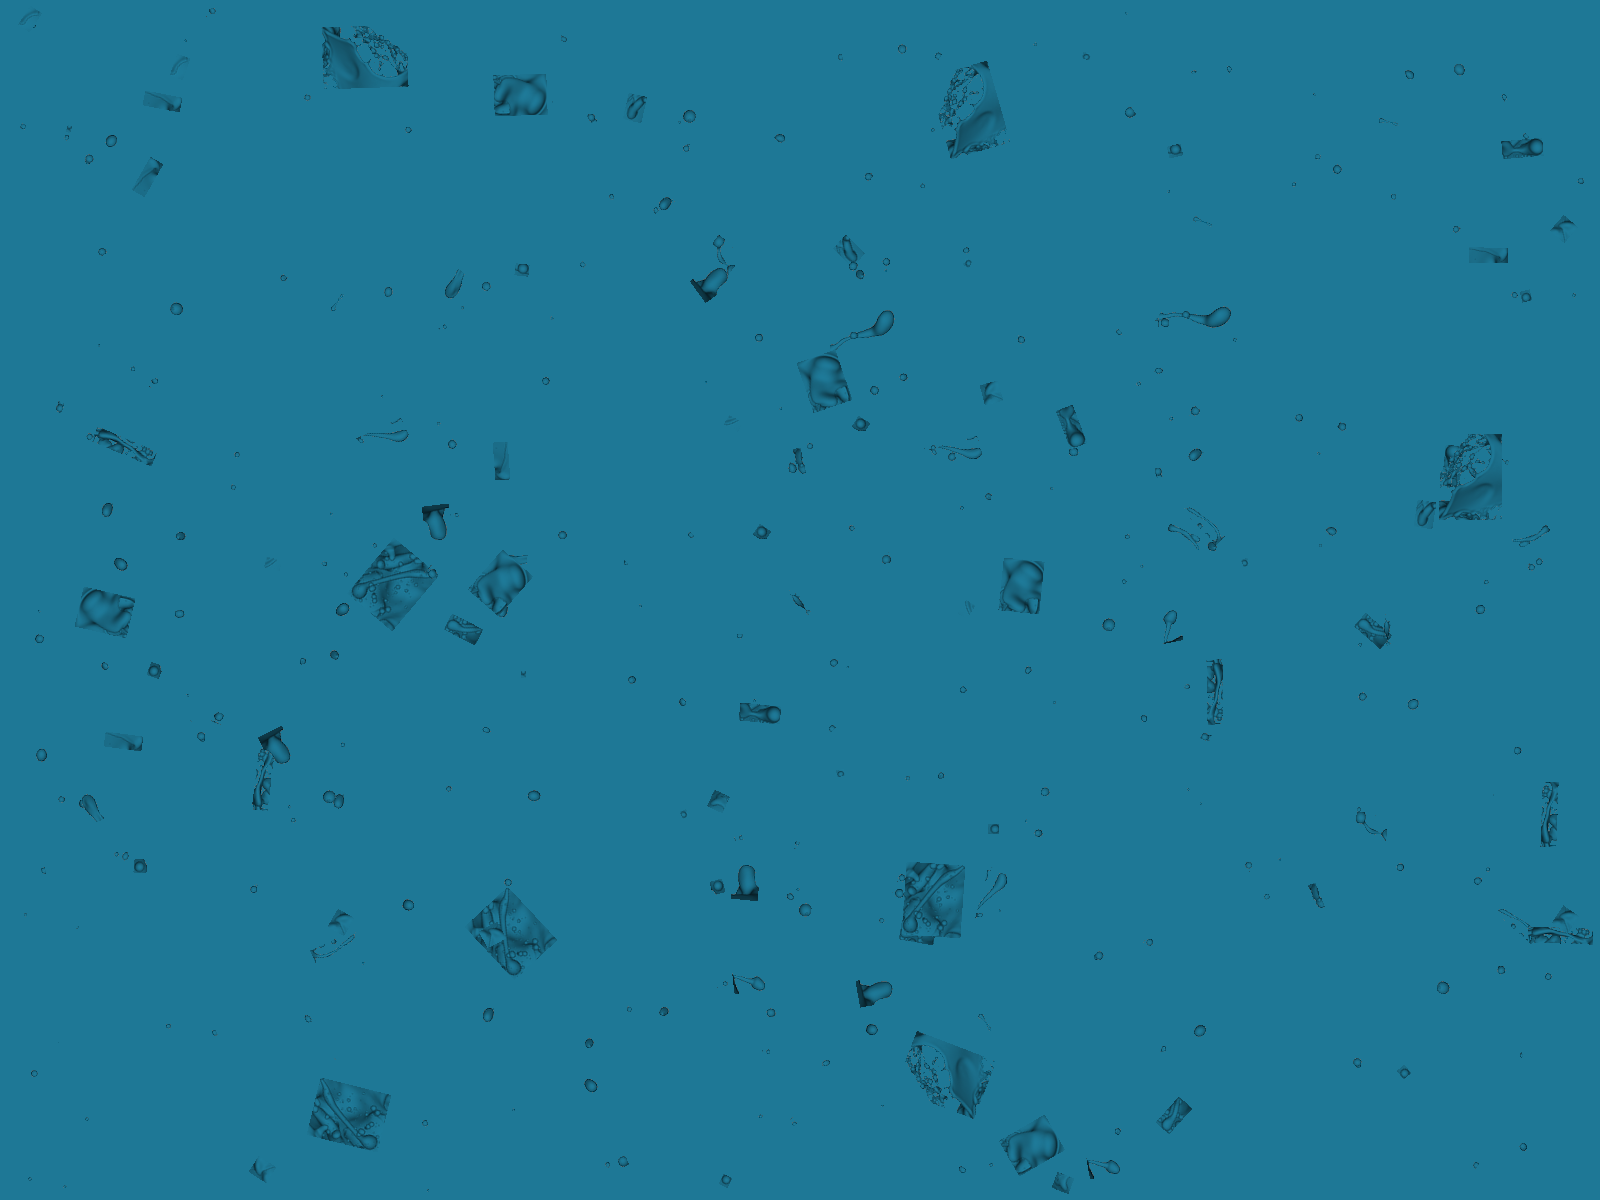Attached ligament: (464, 886, 558, 981), (346, 537, 440, 632), (306, 1076, 392, 1153), (901, 861, 966, 939), (91, 426, 157, 466), (251, 744, 276, 812), (1054, 405, 1089, 450), (1353, 613, 1393, 650), (1155, 1095, 1193, 1134), (1150, 606, 1184, 645), (443, 613, 484, 645), (1085, 1147, 1124, 1180), (1540, 782, 1558, 848), (1527, 926, 1594, 945), (1206, 659, 1225, 725), (831, 234, 866, 268), (731, 964, 769, 995), (1441, 444, 1464, 488), (738, 702, 782, 725), (1500, 137, 1545, 160), (898, 921, 937, 945), (622, 92, 648, 124), (1414, 499, 1437, 529), (1306, 882, 1327, 911), (792, 447, 808, 476)
Detached ligament: (1153, 277, 1238, 361), (828, 303, 900, 367), (345, 417, 411, 465), (918, 435, 984, 475), (973, 868, 1010, 935), (1180, 499, 1227, 546), (1493, 900, 1541, 945), (700, 234, 745, 277), (309, 929, 362, 964), (1508, 519, 1551, 553), (436, 268, 472, 308), (1164, 523, 1208, 553), (74, 787, 105, 826), (1354, 811, 1390, 843), (1458, 460, 1490, 489), (782, 587, 815, 616), (1478, 442, 1512, 466), (491, 552, 528, 574), (1377, 613, 1396, 647), (973, 1010, 998, 1034), (328, 291, 345, 314), (1377, 113, 1398, 129), (1192, 214, 1213, 228)
bag: (894, 1030, 997, 1121), (927, 61, 1010, 160), (321, 24, 409, 89), (1439, 434, 1502, 521), (467, 550, 534, 616), (998, 1114, 1066, 1177), (796, 349, 853, 413), (74, 586, 136, 639), (998, 557, 1044, 615), (493, 73, 548, 117), (689, 258, 737, 304), (257, 725, 300, 771), (855, 974, 898, 1008), (729, 860, 762, 903), (421, 503, 454, 545)
drop: (110, 552, 134, 579), (580, 1074, 602, 1099), (1060, 442, 1083, 465), (331, 599, 357, 620), (317, 784, 340, 807), (1432, 977, 1456, 998), (399, 892, 420, 918), (863, 1018, 883, 1042), (170, 526, 191, 547), (362, 576, 383, 597), (655, 193, 677, 214), (168, 297, 189, 319), (1191, 1018, 1211, 1041), (77, 149, 100, 169), (1099, 613, 1119, 635), (850, 263, 871, 285), (31, 745, 52, 766), (524, 785, 546, 805), (1186, 444, 1206, 465), (679, 105, 699, 126), (850, 415, 871, 435), (752, 523, 772, 543), (654, 1002, 674, 1022), (325, 645, 345, 666), (437, 779, 457, 799), (1036, 782, 1054, 803), (1347, 1053, 1366, 1074), (876, 250, 894, 270), (842, 521, 862, 539), (1117, 102, 1136, 122), (1203, 537, 1222, 556), (1289, 406, 1308, 425), (443, 434, 462, 453), (1328, 159, 1347, 178), (1471, 603, 1489, 623), (191, 727, 209, 747), (866, 379, 883, 400), (1490, 961, 1508, 979), (146, 661, 164, 679), (823, 653, 842, 671), (858, 166, 876, 185), (1466, 871, 1485, 889), (1401, 697, 1420, 715), (612, 1151, 630, 1170), (771, 129, 789, 147), (1449, 58, 1466, 76), (581, 1035, 598, 1053), (716, 977, 733, 995), (923, 440, 941, 458), (494, 601, 511, 619), (784, 459, 801, 476), (1323, 522, 1340, 539), (1506, 741, 1524, 758), (534, 373, 553, 389), (1089, 947, 1107, 963), (480, 1005, 496, 1024), (100, 500, 116, 519), (1167, 142, 1184, 159), (709, 879, 726, 896), (92, 242, 110, 258), (1186, 405, 1203, 421), (1120, 529, 1136, 547), (103, 131, 120, 149), (423, 563, 440, 581), (477, 279, 496, 294), (331, 792, 346, 811), (416, 1118, 432, 1134), (799, 437, 815, 454), (1506, 290, 1522, 306), (1141, 934, 1158, 950), (160, 1020, 176, 1036), (1396, 1064, 1412, 1080), (927, 47, 944, 63), (845, 258, 863, 274), (763, 1005, 779, 1022), (797, 900, 813, 918), (1241, 857, 1256, 874), (1354, 689, 1369, 706), (624, 672, 639, 688), (1516, 1138, 1531, 1155), (955, 683, 971, 698), (1532, 555, 1548, 570), (913, 179, 929, 195), (23, 1170, 38, 1186), (210, 710, 226, 726), (821, 718, 837, 735), (894, 42, 912, 55), (31, 633, 47, 648), (74, 798, 89, 813), (718, 1174, 733, 1189), (123, 362, 139, 377), (55, 1181, 71, 1196), (500, 876, 515, 891), (1524, 560, 1540, 575), (1333, 421, 1349, 435), (514, 263, 530, 277), (173, 605, 186, 621), (1390, 860, 1406, 874), (228, 449, 244, 463), (1115, 574, 1131, 587), (134, 858, 147, 874), (380, 285, 396, 299), (301, 93, 315, 108), (894, 371, 910, 384), (1542, 969, 1556, 984), (407, 575, 421, 590), (603, 190, 619, 204), (286, 811, 300, 826), (334, 737, 349, 751), (542, 313, 557, 326), (1310, 447, 1324, 463), (79, 1111, 94, 1124), (401, 124, 414, 137), (891, 887, 905, 901), (1031, 826, 1044, 839), (675, 697, 689, 711), (1020, 664, 1034, 678), (784, 891, 797, 905), (1466, 1158, 1480, 1172), (1180, 679, 1194, 693), (600, 1158, 614, 1172), (1519, 289, 1533, 303), (874, 915, 888, 929), (819, 1055, 833, 1069), (436, 321, 450, 335), (1449, 222, 1463, 236), (1497, 91, 1511, 105), (648, 204, 661, 218), (785, 1116, 799, 1129), (576, 260, 590, 274), (894, 871, 910, 884), (98, 661, 111, 676), (1479, 576, 1492, 591), (1151, 363, 1167, 376), (1557, 916, 1570, 932), (1403, 67, 1416, 82), (28, 1066, 40, 1080), (670, 116, 684, 129), (226, 483, 239, 495), (622, 1005, 636, 1017), (300, 1013, 314, 1026), (1222, 63, 1235, 77), (733, 833, 746, 847), (147, 377, 161, 389), (586, 111, 598, 125), (53, 400, 66, 413), (1199, 730, 1213, 742), (1157, 316, 1170, 329), (16, 122, 30, 135), (944, 451, 956, 464), (276, 272, 289, 285), (751, 332, 763, 344), (84, 431, 97, 444), (753, 1111, 766, 1123), (839, 659, 852, 672), (748, 695, 761, 707), (1259, 890, 1271, 903), (1574, 171, 1585, 185), (317, 557, 331, 568), (986, 823, 1000, 834), (246, 884, 260, 895), (1015, 334, 1027, 348), (340, 568, 351, 581), (1111, 1124, 1123, 1137), (879, 552, 892, 563), (37, 866, 48, 879), (60, 131, 72, 144), (926, 125, 939, 136), (874, 1100, 886, 1113), (421, 1187, 433, 1199), (986, 1158, 998, 1171), (1569, 290, 1580, 303), (179, 34, 191, 45), (955, 1165, 968, 1176), (449, 509, 460, 522), (679, 808, 690, 821), (1136, 560, 1148, 572), (936, 769, 947, 780), (297, 654, 309, 666), (556, 529, 567, 541), (961, 246, 973, 257), (91, 339, 102, 350), (375, 393, 387, 405), (1230, 334, 1241, 345), (634, 601, 645, 613), (792, 884, 804, 895), (791, 839, 803, 851), (680, 142, 692, 154), (1240, 557, 1251, 568), (20, 909, 31, 920), (1046, 483, 1057, 494), (1313, 153, 1324, 164), (1519, 131, 1531, 142), (1112, 326, 1124, 338), (110, 850, 122, 860), (1139, 713, 1149, 726), (1049, 696, 1060, 708), (1157, 1044, 1169, 1054), (369, 541, 380, 551), (1354, 639, 1364, 650), (983, 1066, 994, 1076), (1163, 185, 1174, 195), (285, 802, 295, 813), (957, 503, 968, 514), (1133, 379, 1144, 389), (481, 724, 493, 734), (506, 1103, 517, 1114), (31, 608, 43, 618), (29, 20, 39, 32), (1167, 412, 1177, 424), (761, 1046, 771, 1058), (1081, 50, 1092, 61), (963, 257, 973, 268), (1154, 466, 1164, 478), (685, 529, 695, 541), (209, 1027, 219, 1039), (1315, 542, 1324, 555), (559, 32, 568, 44), (991, 906, 1002, 916), (879, 266, 889, 276), (1274, 855, 1284, 865), (700, 377, 711, 387), (357, 961, 367, 971), (774, 403, 784, 413), (328, 511, 338, 521), (52, 1036, 62, 1046), (181, 692, 191, 702), (457, 303, 467, 313), (433, 418, 443, 429), (1189, 66, 1199, 76), (619, 558, 629, 568), (1387, 193, 1397, 203), (120, 850, 129, 861), (205, 8, 217, 16), (1483, 863, 1492, 874), (1289, 179, 1298, 189), (57, 795, 66, 805), (479, 937, 489, 945), (986, 865, 997, 874), (1310, 92, 1319, 102), (1354, 805, 1363, 814), (983, 492, 991, 500), (1031, 40, 1039, 49), (1487, 792, 1495, 800), (1516, 1050, 1524, 1059), (129, 601, 137, 610), (1198, 800, 1207, 809), (1120, 10, 1129, 19), (1182, 787, 1191, 795), (517, 93, 527, 101), (185, 716, 193, 726), (66, 124, 73, 134), (734, 633, 745, 640), (547, 97, 554, 106), (837, 769, 845, 776), (837, 52, 843, 62), (489, 565, 496, 572), (1020, 817, 1028, 824), (905, 774, 911, 783), (330, 1054, 336, 1063), (520, 671, 527, 679), (76, 925, 83, 932)
lobe: (131, 156, 164, 198), (142, 89, 183, 113), (1550, 214, 1579, 245), (103, 731, 144, 753), (248, 1155, 277, 1184), (1551, 905, 1580, 934), (477, 921, 506, 949), (328, 908, 355, 937), (493, 441, 511, 482), (16, 5, 43, 33), (979, 379, 1004, 406), (1469, 247, 1508, 263), (706, 789, 731, 814), (169, 53, 191, 81), (1051, 1171, 1075, 1195), (723, 413, 745, 434), (957, 599, 976, 620), (263, 556, 283, 572)
